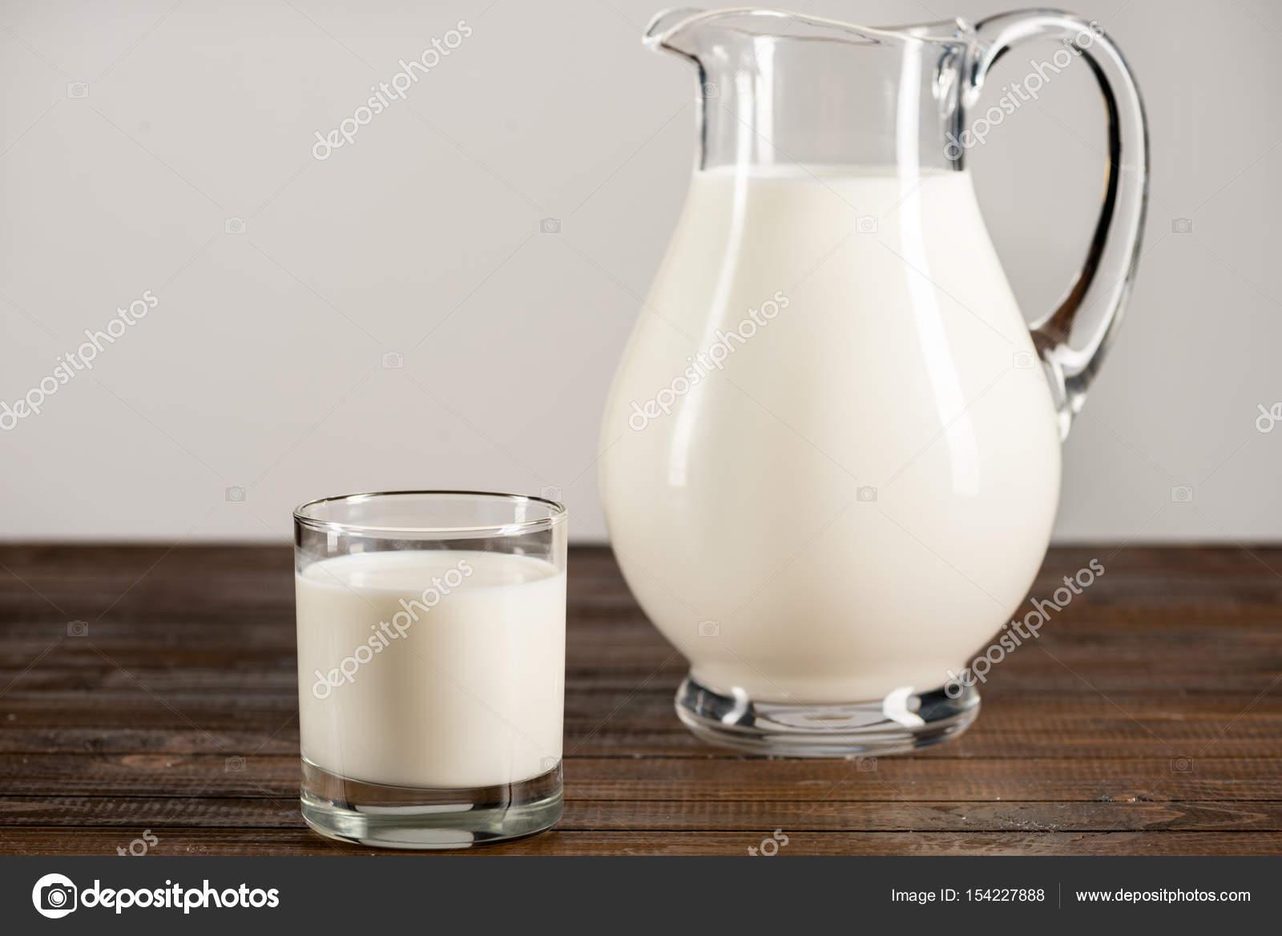produk_susu: (717, 55, 942, 726), (311, 513, 551, 826)
